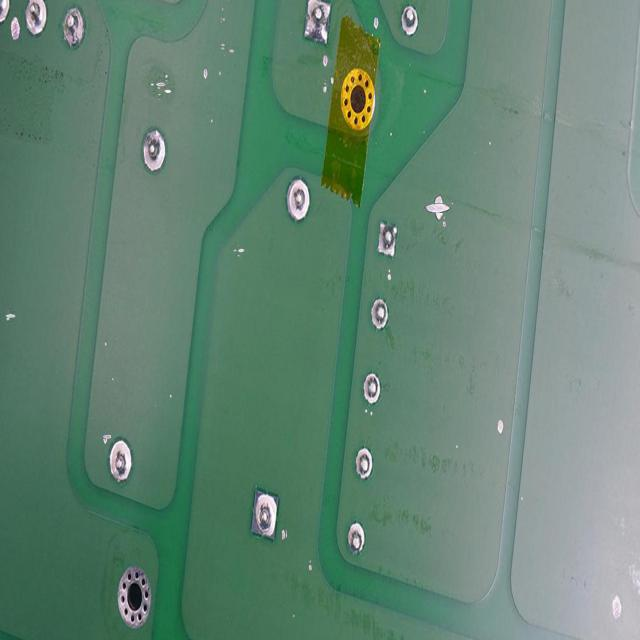spillover: (428, 198, 449, 218), (8, 13, 22, 43), (153, 77, 173, 97), (610, 594, 623, 623), (220, 41, 234, 55), (497, 415, 505, 438), (232, 244, 246, 257), (324, 50, 334, 68), (202, 63, 210, 83), (373, 14, 380, 31), (4, 309, 14, 319), (281, 525, 286, 543), (100, 432, 110, 441), (322, 82, 328, 94)
